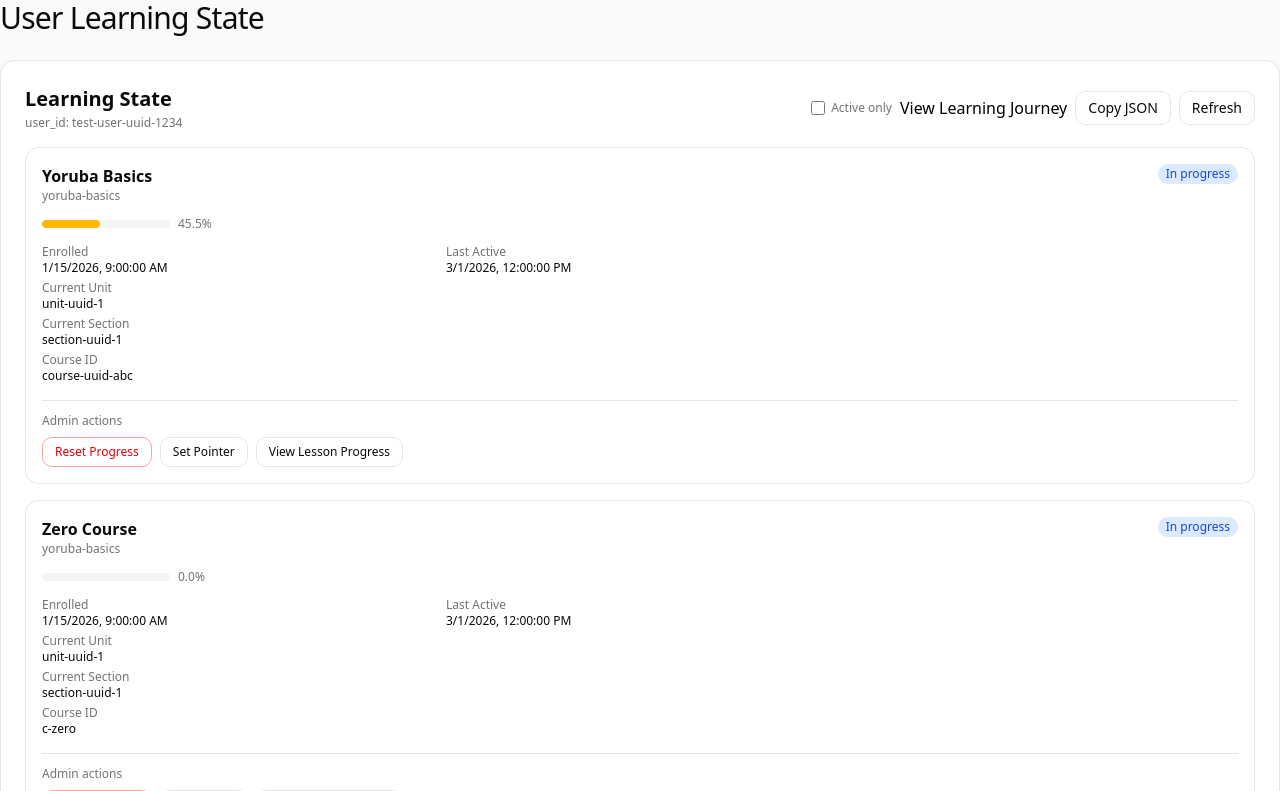
Test case: UserLearningStatePage › active-only checkbox hides courses with 0% progress
Expected: the text "Yoruba Basics" is shown, [42,164,152,188]
Expected: the text "Zero Course" is shown, [42,517,137,541]
# Enable active-only filter
Click the checkbox named "Show active learners only": (818, 108) [811,101,825,115]
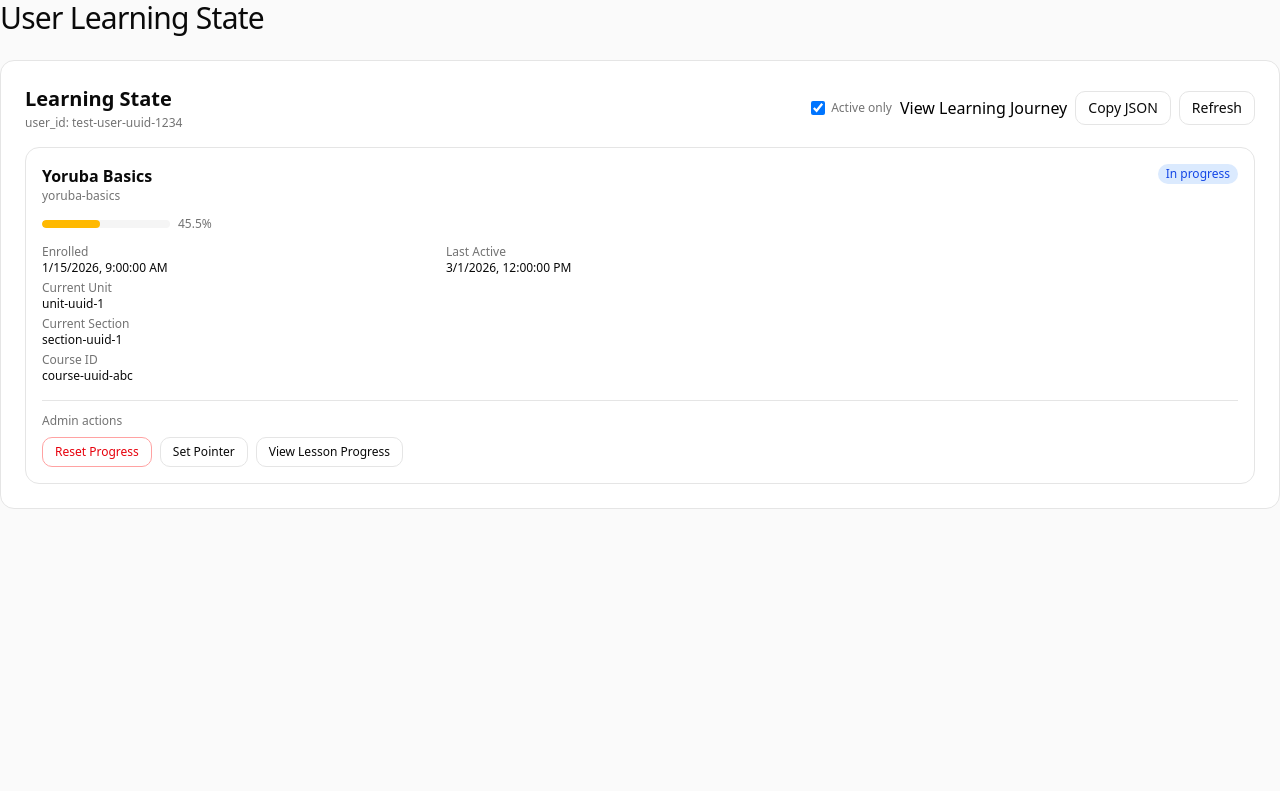
Expected: the text "Yoruba Basics" is shown, [42,164,152,188]
Expected: the text "Zero Course" is gone
